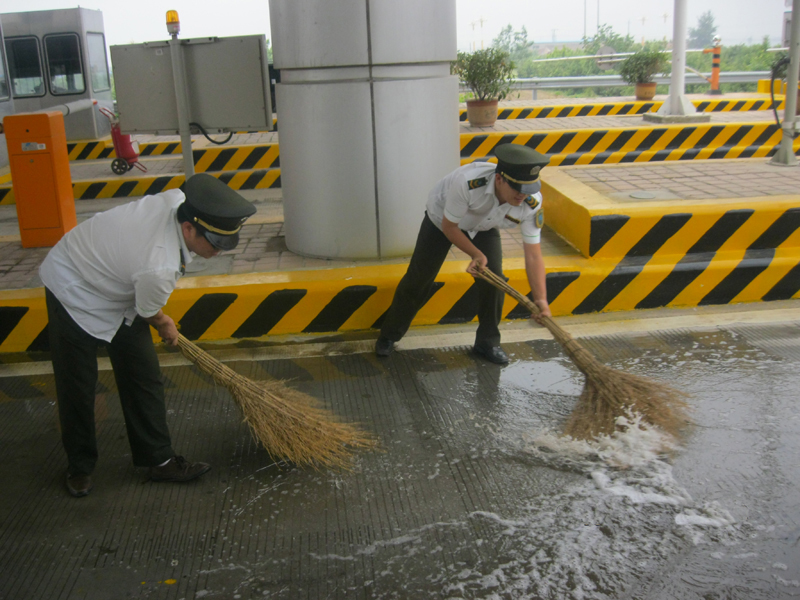other: (371, 121, 706, 449), (30, 169, 355, 504)
